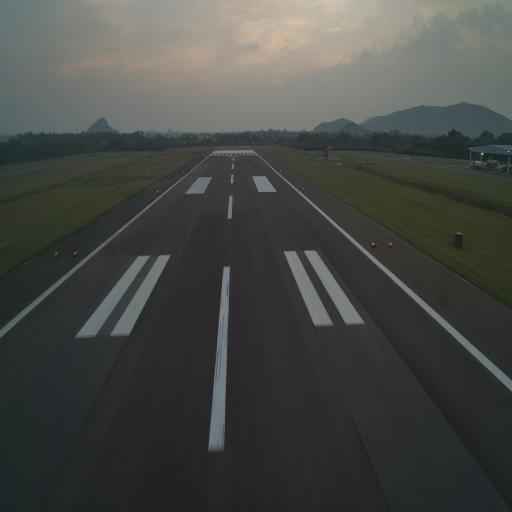on: (53, 249, 59, 259), (370, 240, 376, 249), (72, 249, 78, 257), (388, 239, 393, 247)
